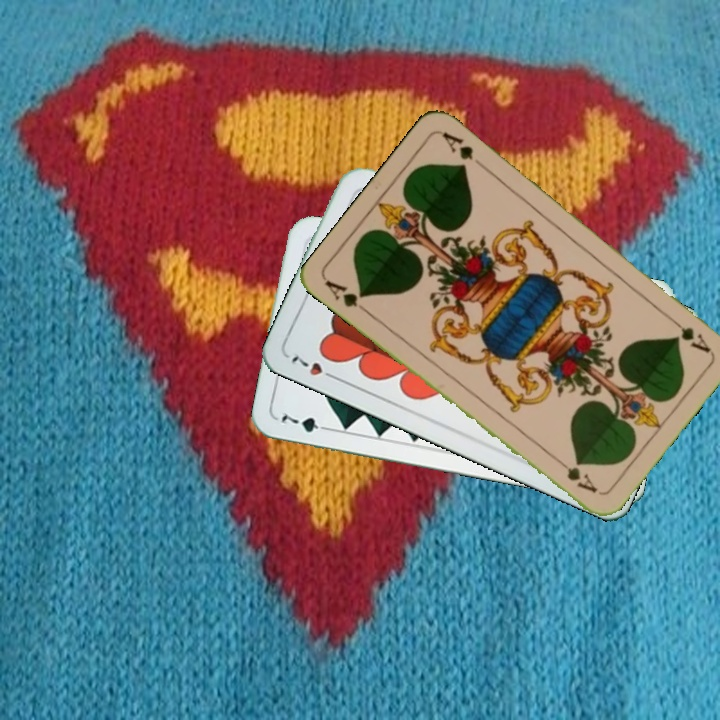G7: (276, 410, 334, 435)
GA: (664, 311, 713, 356), (321, 276, 373, 318)
H7: (286, 348, 341, 383)
